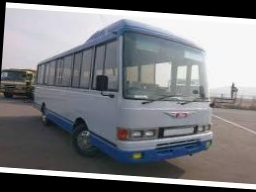bus: (32, 15, 219, 169)
